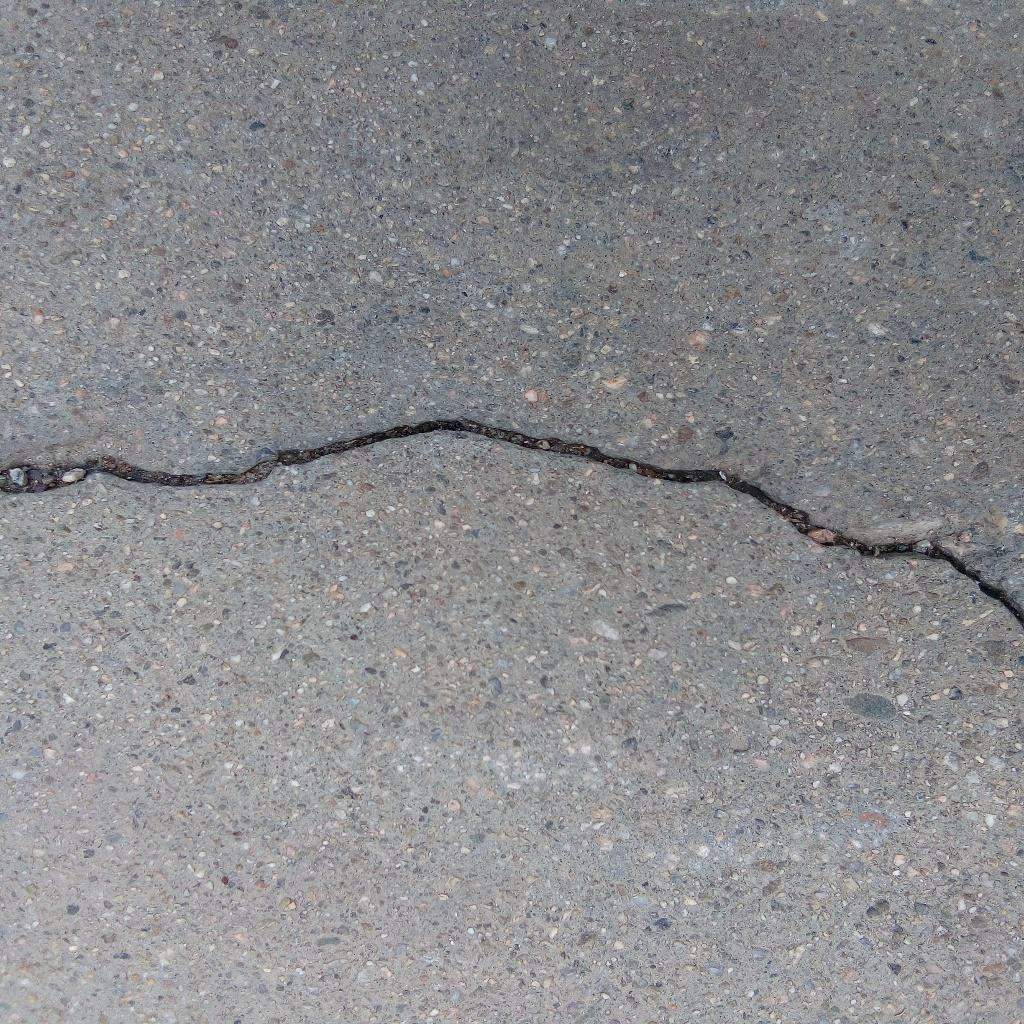Crack: (1, 418, 1024, 630)
